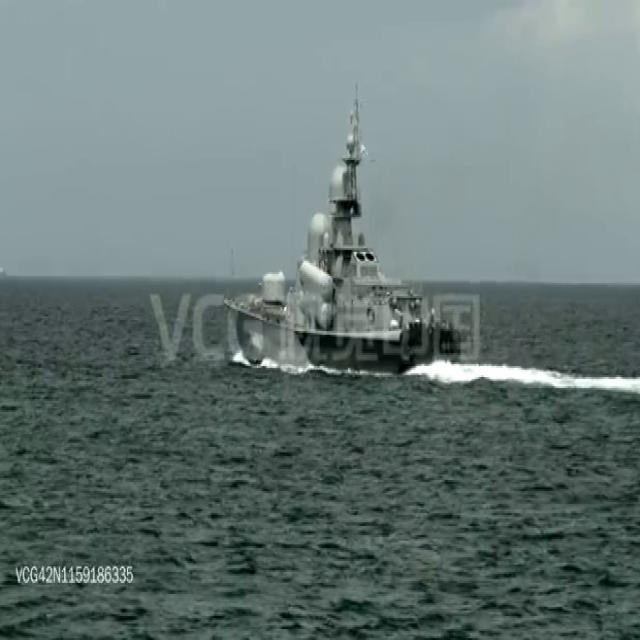houseboat: (218, 86, 466, 369)
